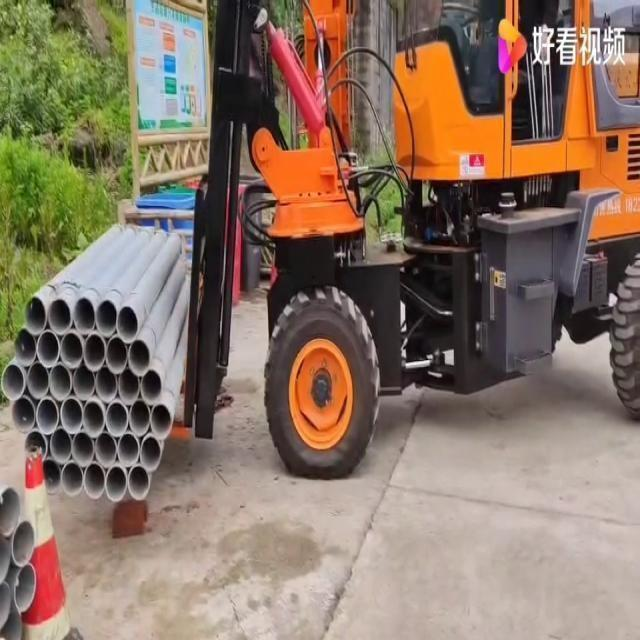forklift: (202, 0, 640, 484)
traffic cone: (11, 452, 74, 640)
